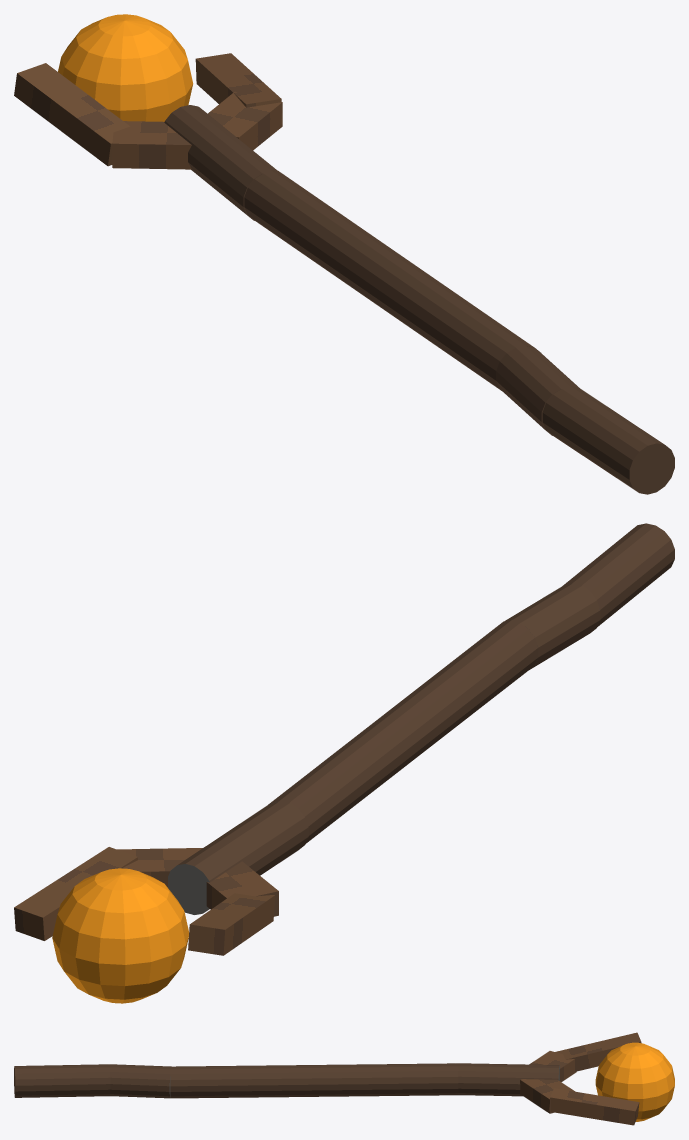
The model's file is staff.gltf.
The picture shows the model from 3 angles, top to bottom: view 1: azimuth 30°, elevation 25°; view 2: azimuth 150°, elevation 25°; view 3: azimuth 270°, elevation 25°; orthographic projection. The views are drawn at different scales.
Parts seen in each view (by area): view 1: sphere; view 2: sphere; view 3: sphere.
Boxes of the visible parts, x1,y1,x2,y2 form: sphere: [14, 14, 674, 494]; sphere: [14, 523, 674, 1003]; sphere: [14, 1032, 674, 1125].
Size of the model in its own units: 0.5707 by 0.3125 by 2.61.
Materials: 1 (1 with a texture image).
